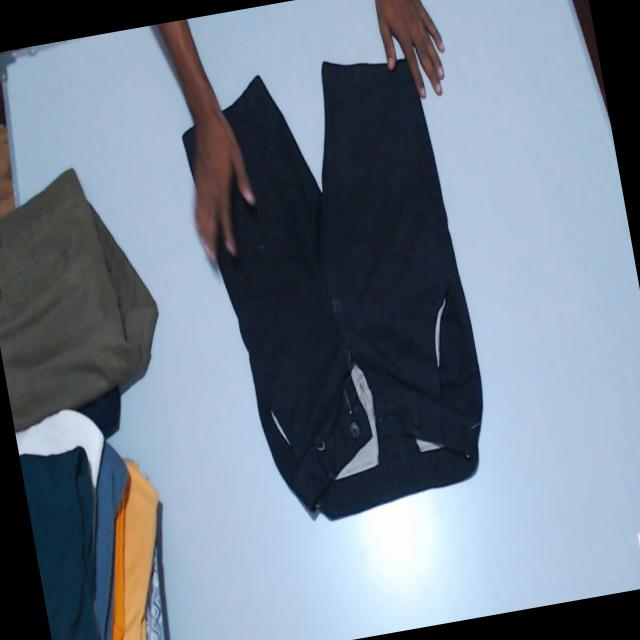new-garment: (213, 60, 482, 518), (217, 60, 482, 517), (182, 116, 219, 204)
